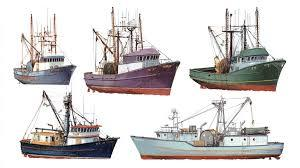fishing boat: (129, 93, 288, 162), (82, 4, 181, 97), (189, 3, 283, 93), (19, 88, 121, 159), (11, 11, 78, 86)
